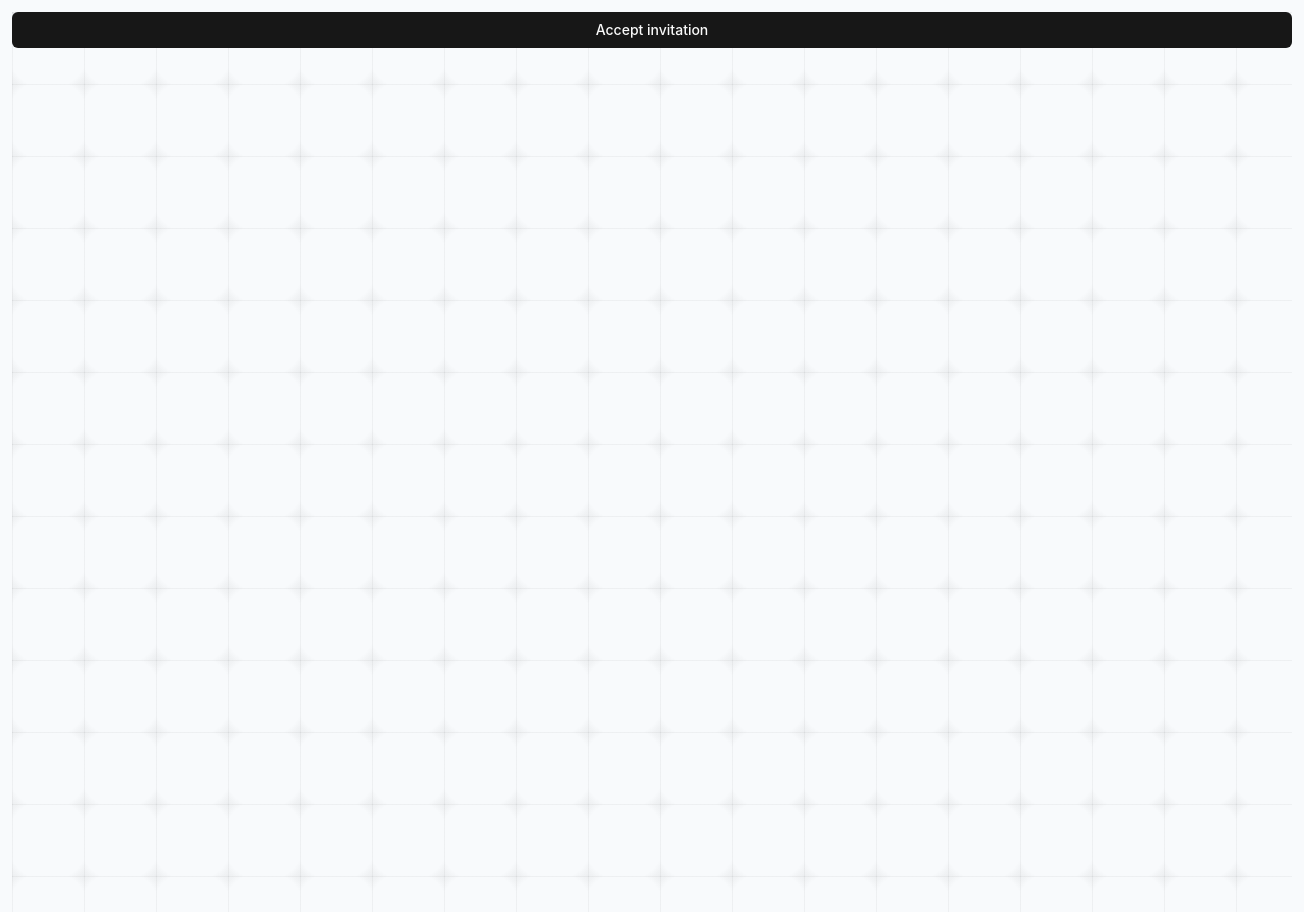
Test: AcceptButton — invitation accept UI (UAT Test 7, WS-03) › shows error alert when acceptInvitationAction returns {ok:false}
The width and height of the screenshot is (1304, 912).
Click the button "Accept invitation": click(652, 30) [12,12,1292,48]
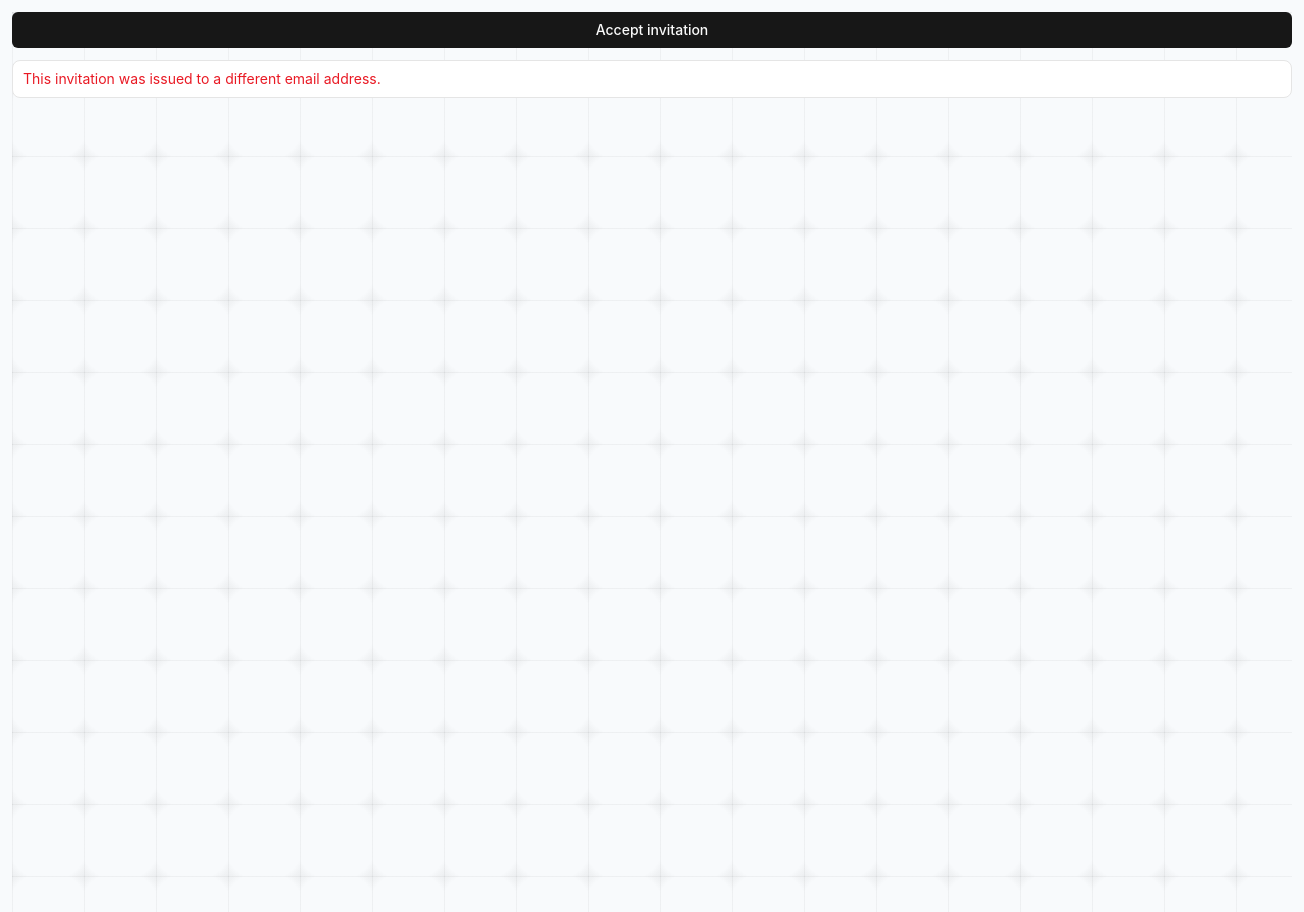
Check: the message "This invitation was issued to a different email address." is shown, box [12,60,1292,98]
Check: the message reads "This invitation was issued to a different email address.", box [23,70,381,87]
